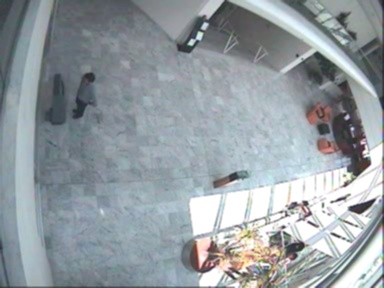person: (72, 72, 97, 118), (282, 200, 313, 218)
